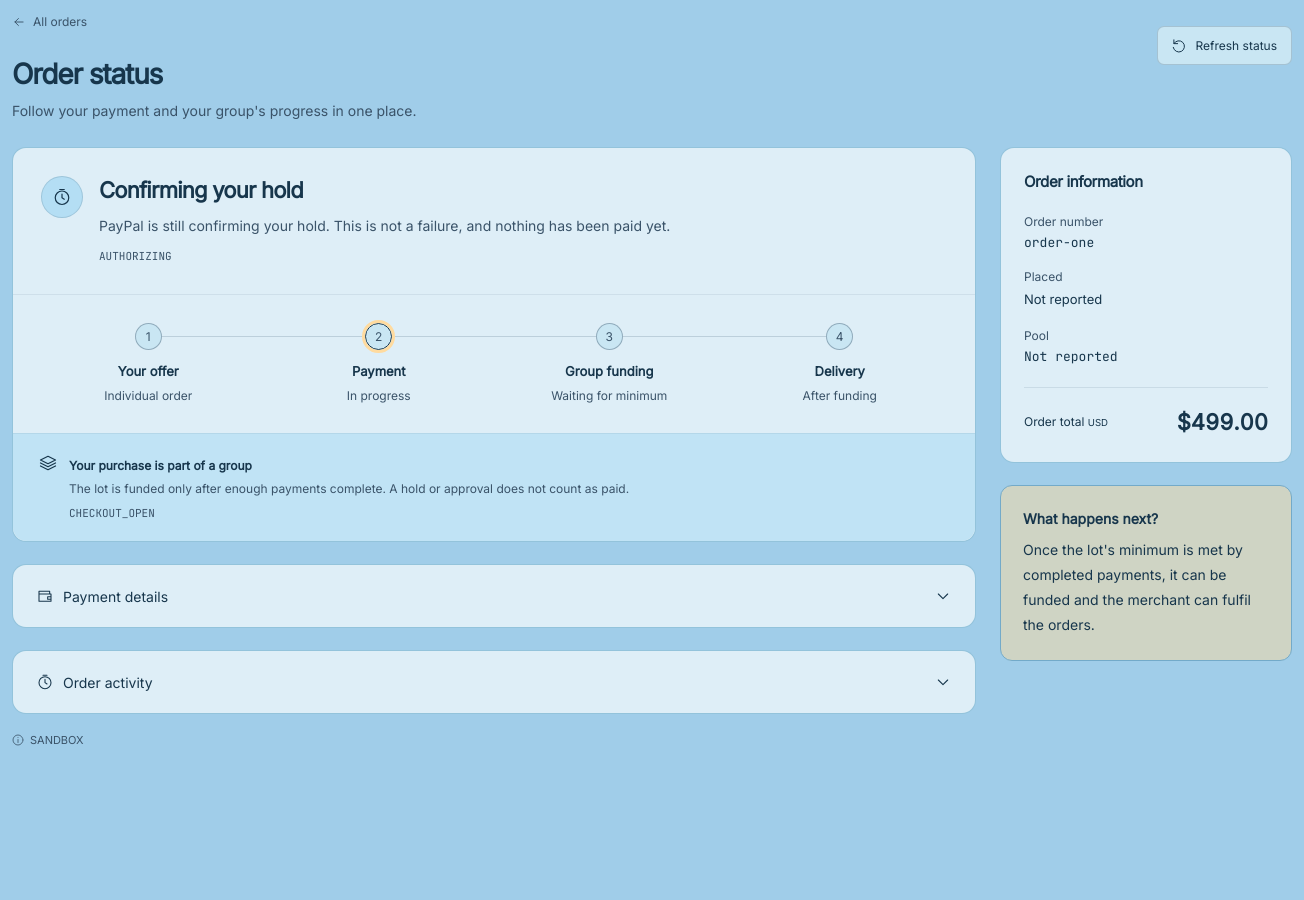
Test: keeps payment diagnostics behind an explicit disclosure
This screenshot has width=1304, height=900.
Expected: the text "CREATED" is not shown
Click the button "Payment details" at (116, 596), box [37, 565, 951, 627]
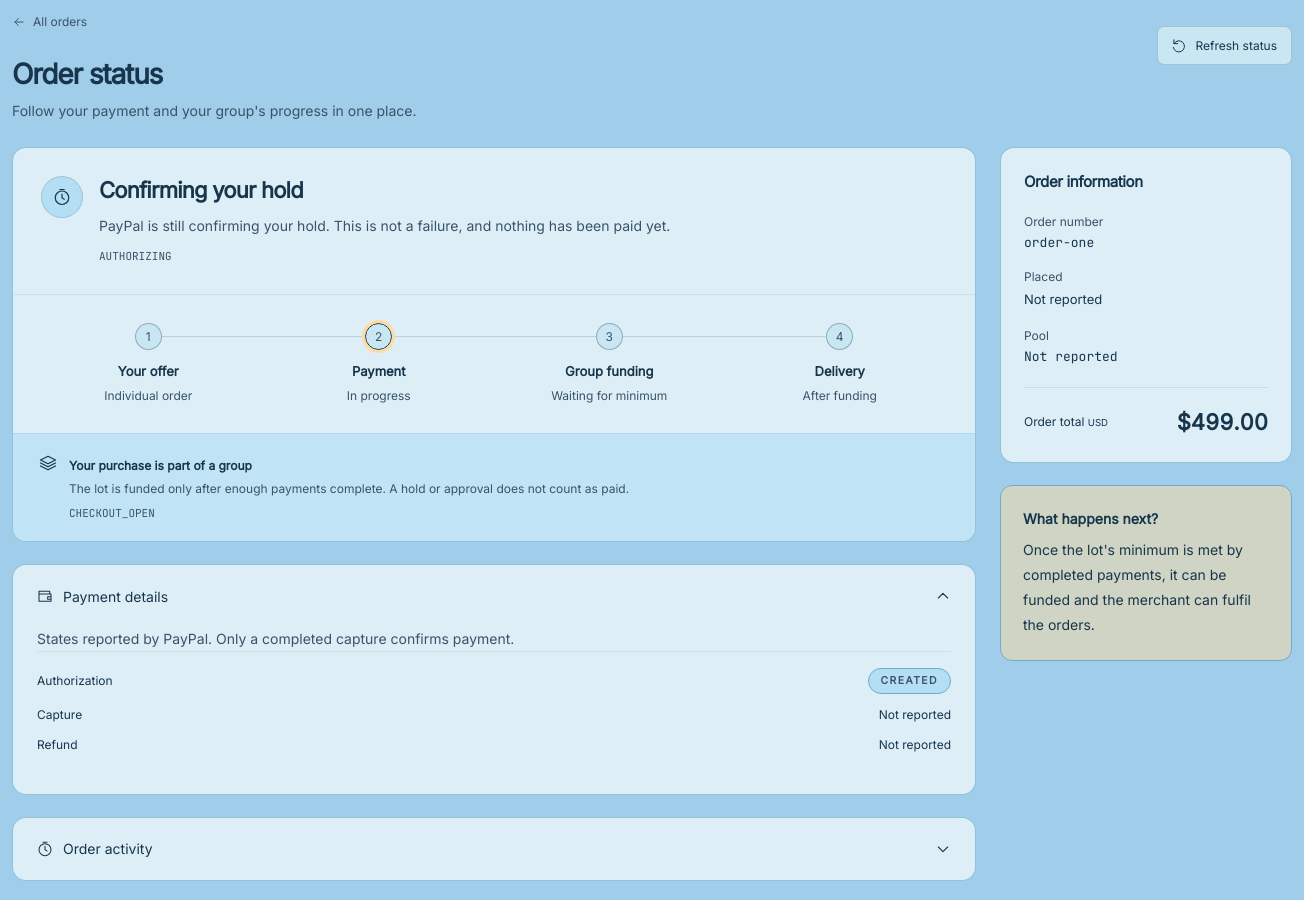
Now the text "CREATED" is shown, box [868, 668, 951, 694]
Now the button "Payment details" is expanded, box [37, 565, 951, 627]
